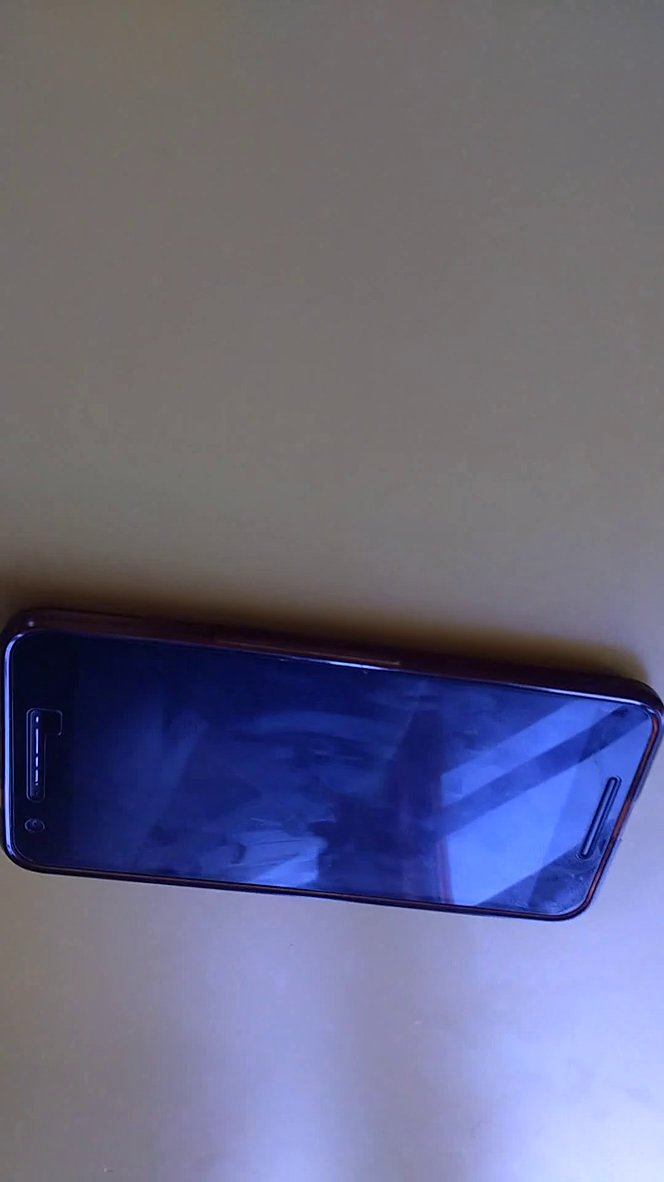phone: (1, 595, 664, 933)
